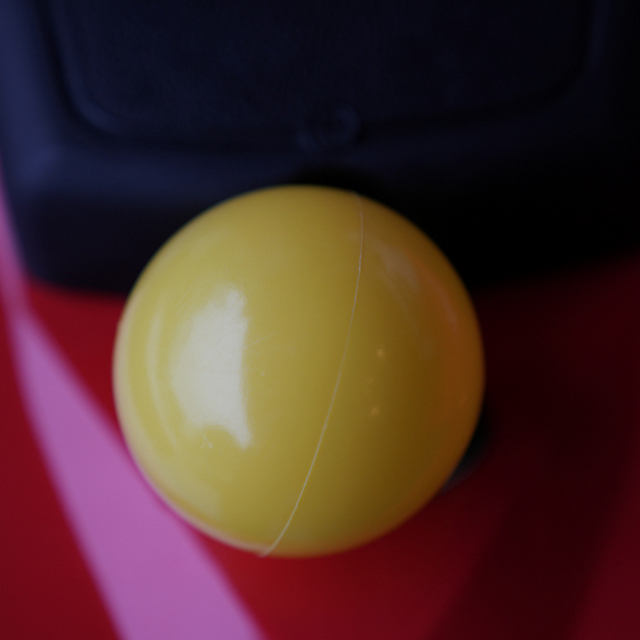Ball: (111, 183, 486, 550)
